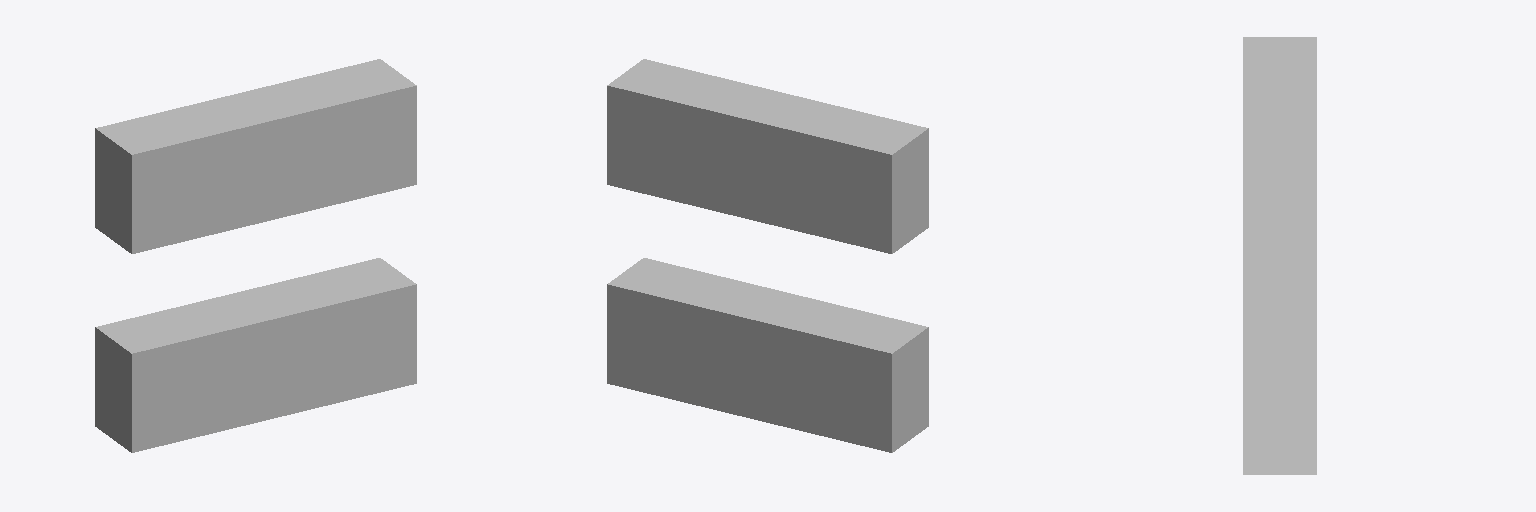
File: fence_side_2.obj
The picture shows the model from 3 angles: view 1: azimuth 30°, elevation 25°; view 2: azimuth 150°, elevation 25°; view 3: azimuth 270°, elevation 25°; orthographic projection.
Visible parts, largest first — view 1: lower_bar, top_bar; view 2: lower_bar, top_bar; view 3: top_bar, lower_bar.
Boxes of the visible parts, <box> form: lower_bar: <box>95,258,416,452</box>; top_bar: <box>95,59,416,253</box>; lower_bar: <box>607,258,928,452</box>; top_bar: <box>607,59,928,253</box>; top_bar: <box>1243,37,1316,275</box>; lower_bar: <box>1243,276,1316,474</box>.
Size of the model in its own units: 0.5625 by 0.5625 by 0.125.